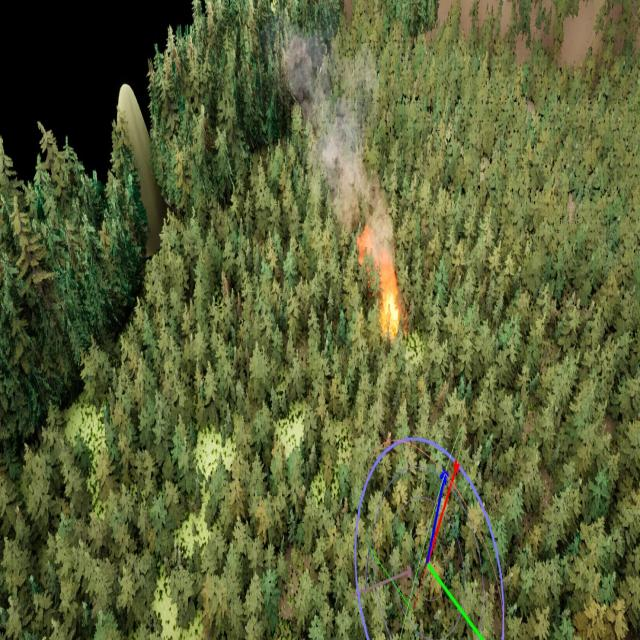fire: (375, 270, 402, 332)
smoke: (285, 30, 399, 269)
